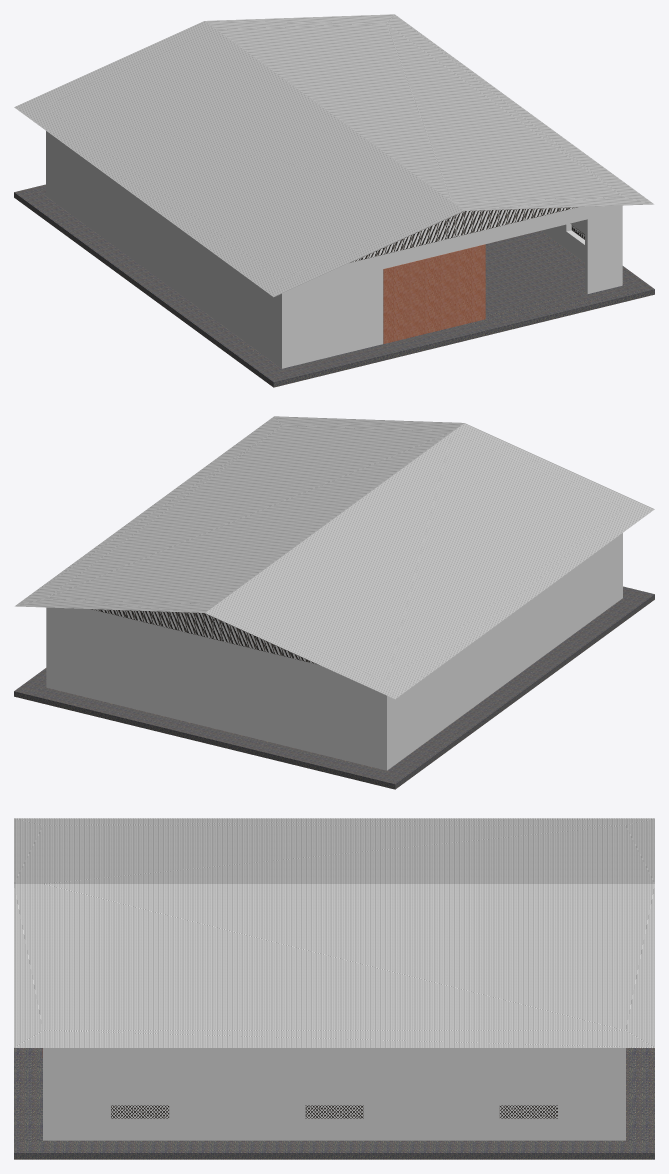
File: house.glb
3 renders of one model, top to bottom at view 1: azimuth 30°, elevation 25°; view 2: azimuth 150°, elevation 25°; view 3: azimuth 270°, elevation 25°, orthographic. The views are drawn at different scales.
Parts seen in each view (by area): view 1: _(Loose Entity).001, _(Loose Entity), _(Loose Entity).002, G-Object; view 2: _(Loose Entity), _(Loose Entity).001, _(Loose Entity).002; view 3: _(Loose Entity).002, _(Loose Entity), _(Loose Entity).001.
Boxes of the visible parts, <box> form: _(Loose Entity).001: <box>14,21,463,297</box>; _(Loose Entity): <box>14,131,654,387</box>; _(Loose Entity).002: <box>205,14,653,210</box>; G-Object: <box>383,244,485,343</box>; _(Loose Entity): <box>14,533,654,789</box>; _(Loose Entity).001: <box>205,423,654,699</box>; _(Loose Entity).002: <box>15,416,463,612</box>; _(Loose Entity).002: <box>14,884,654,1047</box>; _(Loose Entity): <box>14,1048,654,1159</box>; _(Loose Entity).001: <box>14,818,654,883</box>.
Size of the model in its own units: 11.19 by 3.65 by 13.2.
Materials: 5 (4 with a texture image).
